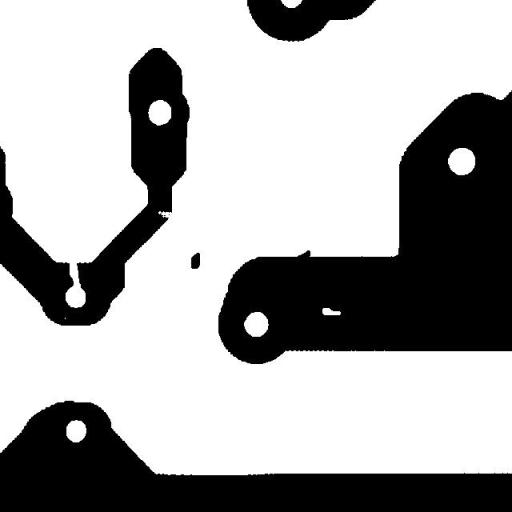copper: (183, 245, 207, 276)
mousebite: (150, 203, 182, 225)
open: (62, 252, 88, 298)
pin-hole: (314, 300, 348, 322)
spur: (290, 242, 318, 268)
